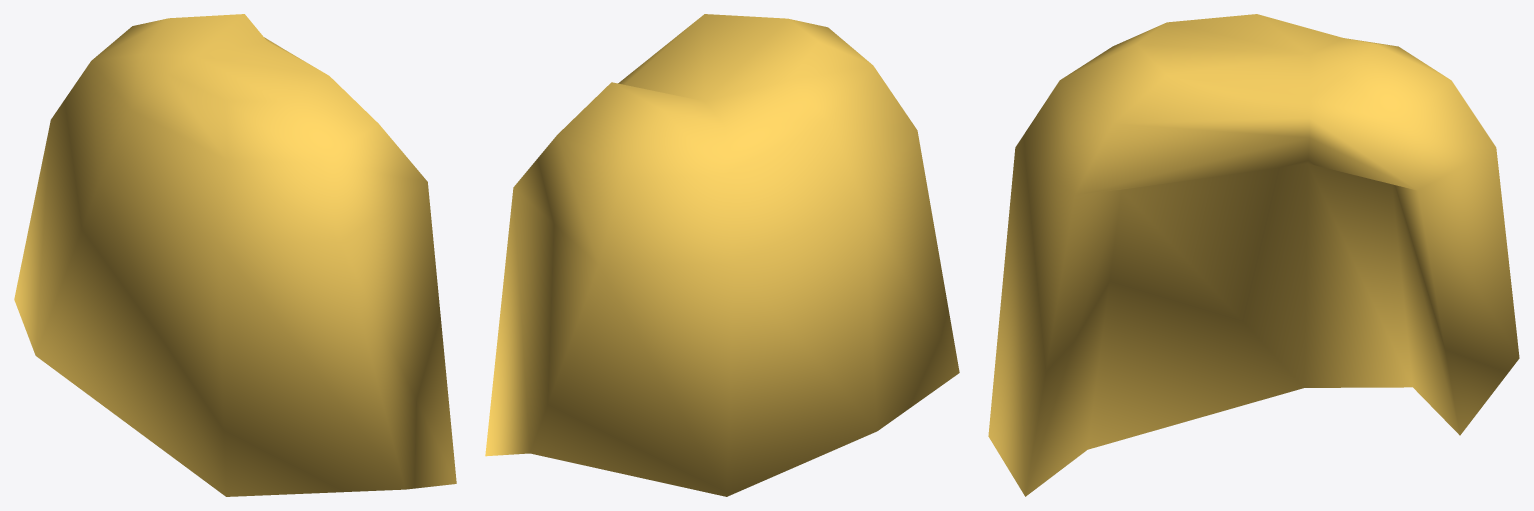
Rendered from blond_female_hair.glb.
3 renders of one model, left to right at view 1: azimuth 30°, elevation 25°; view 2: azimuth 150°, elevation 25°; view 3: azimuth 270°, elevation 25°, orthographic. The views are drawn at different scales.
Parts seen in each view (by area): view 1: Sphere.002; view 2: Sphere.002; view 3: Sphere.002.
Part boxes in pixels (<box>): Sphere.002: <box>14,14,456,496</box>; Sphere.002: <box>485,14,959,496</box>; Sphere.002: <box>988,14,1519,496</box>.
Size of the model in its own units: 3.53 by 4.41 by 5.43.
Materials: 1 (1 with a texture image).
